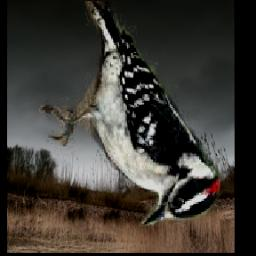Woodpecker: (38, 2, 223, 227)
